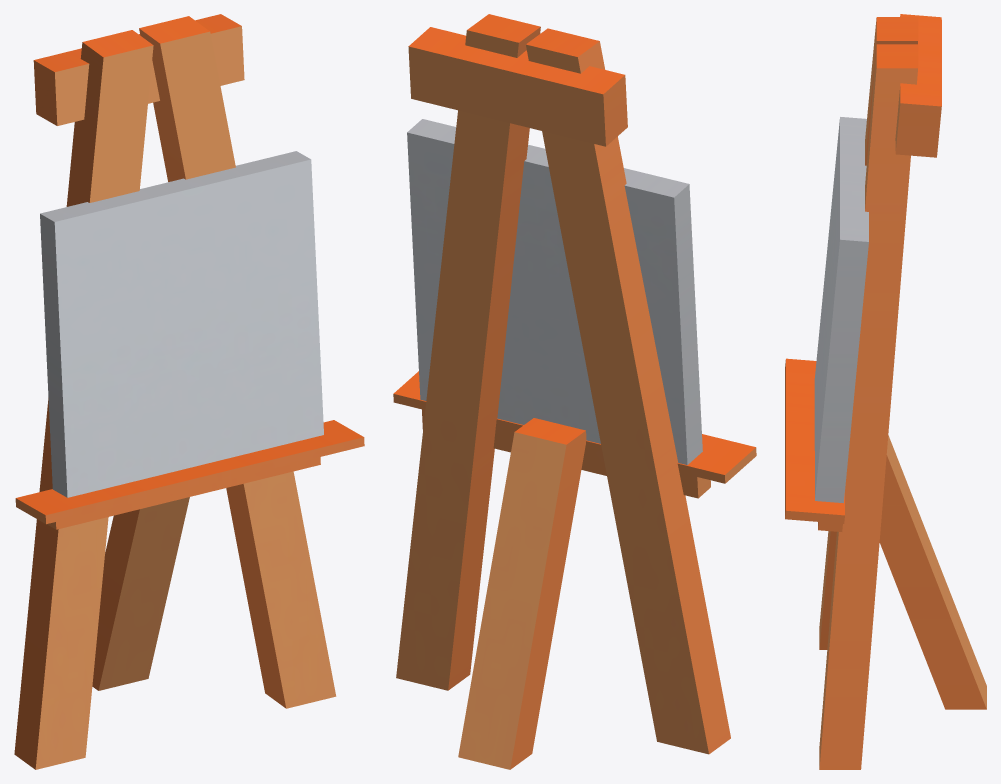
Rendered from SM_Canvas01.fbx.
3 renders of one model, left to right at view 1: azimuth 30°, elevation 25°; view 2: azimuth 150°, elevation 25°; view 3: azimuth 270°, elevation 25°, orthographic. The views are drawn at different scales.
Visible parts, largest first — view 1: SM_Canvas01; view 2: SM_Canvas01; view 3: SM_Canvas01.
Part boxes in pixels (x1,y1,x2,y2): SM_Canvas01: (14, 14, 364, 769); SM_Canvas01: (393, 14, 756, 769); SM_Canvas01: (785, 14, 986, 769).
Size of the model in its own units: 24.82 by 49.71 by 13.87.
